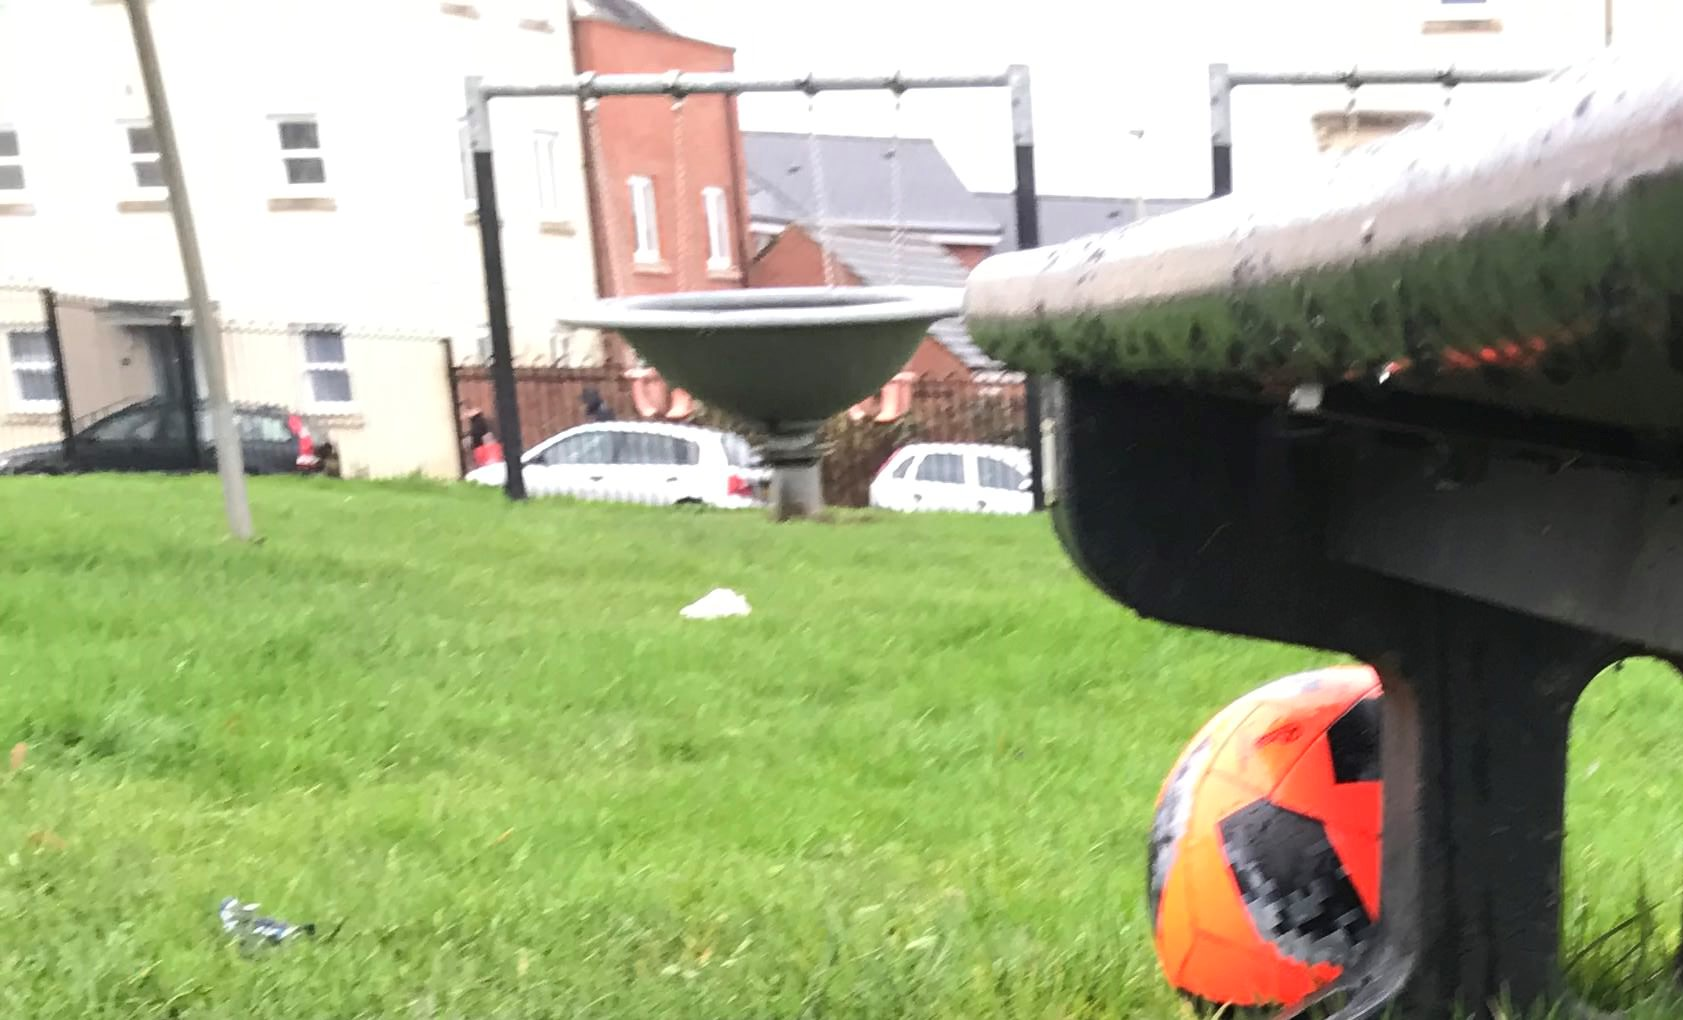football: (1153, 677, 1408, 982)
